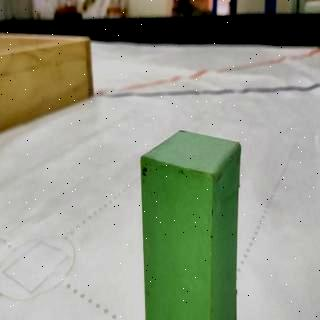greenbox: (138, 126, 242, 320)
